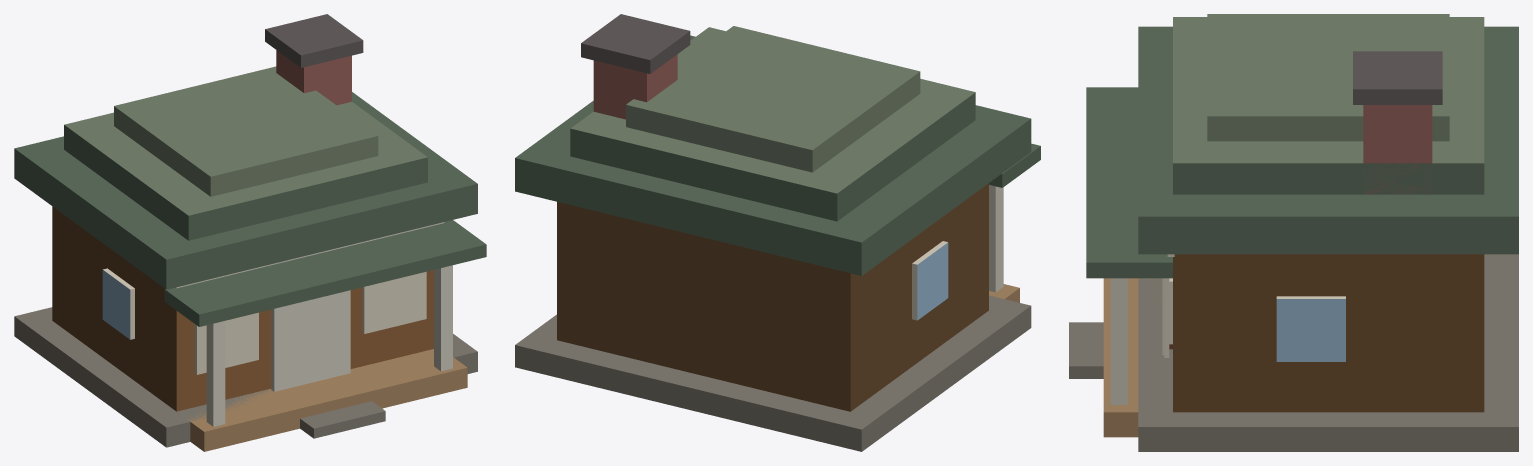
Rendered from Cabin.fbx.
The picture shows the model from 3 angles, left to right: view 1: azimuth 30°, elevation 25°; view 2: azimuth 150°, elevation 25°; view 3: azimuth 270°, elevation 25°; orthographic projection. The views are drawn at different scales.
Visible parts, largest first — view 1: Cabin; view 2: Cabin; view 3: Cabin.
Part boxes in pixels (bbox=[...]): Cabin: bbox=[14, 14, 486, 451]; Cabin: bbox=[515, 14, 1040, 451]; Cabin: bbox=[1069, 14, 1518, 451].
Bounding box in the file's own units: 1300 × 1100 × 1300.
